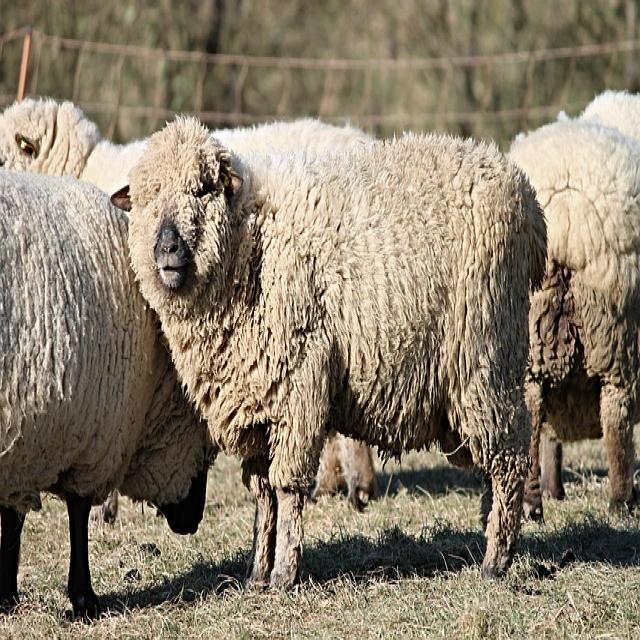goat: (129, 118, 546, 586), (0, 171, 215, 617), (509, 92, 640, 519), (0, 98, 101, 177)
